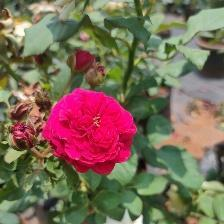rose: (43, 87, 139, 175)
